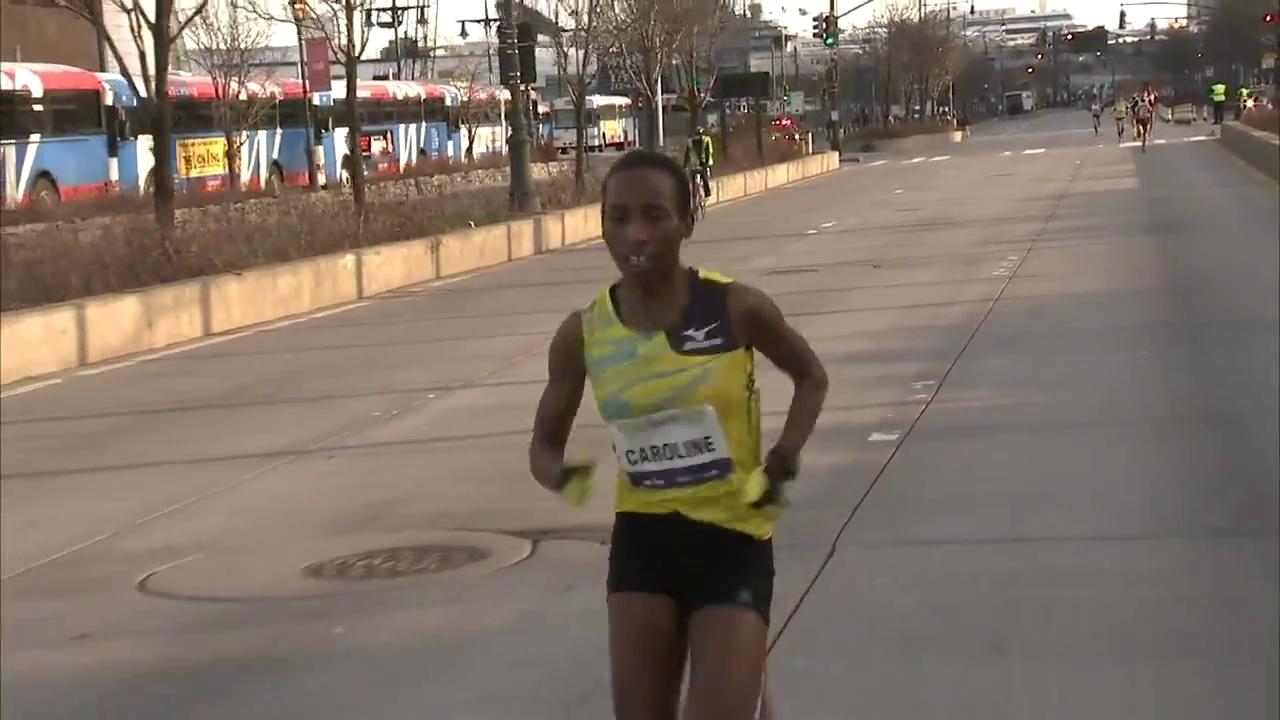victim: (526, 150, 831, 712), (1200, 76, 1234, 130), (1129, 91, 1153, 157), (1077, 90, 1106, 142), (1103, 94, 1134, 142)
